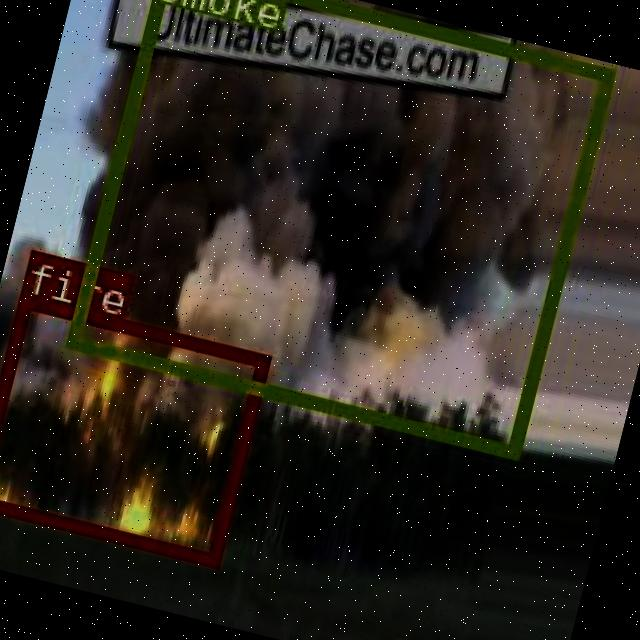fire: (0, 291, 268, 564)
smoke: (65, 0, 611, 457)
